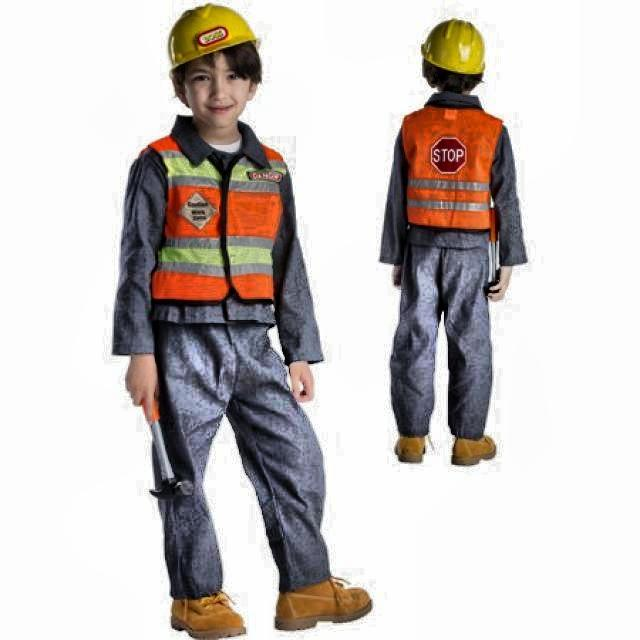person: (124, 8, 360, 640), (392, 12, 520, 470)
